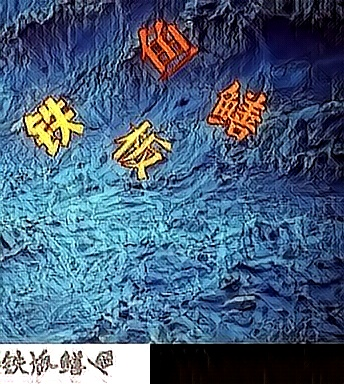B0E5: (110, 116, 172, 180)
CCFA: (22, 94, 84, 158)
D3E3: (137, 17, 199, 81)
F7AD: (206, 80, 268, 144)
